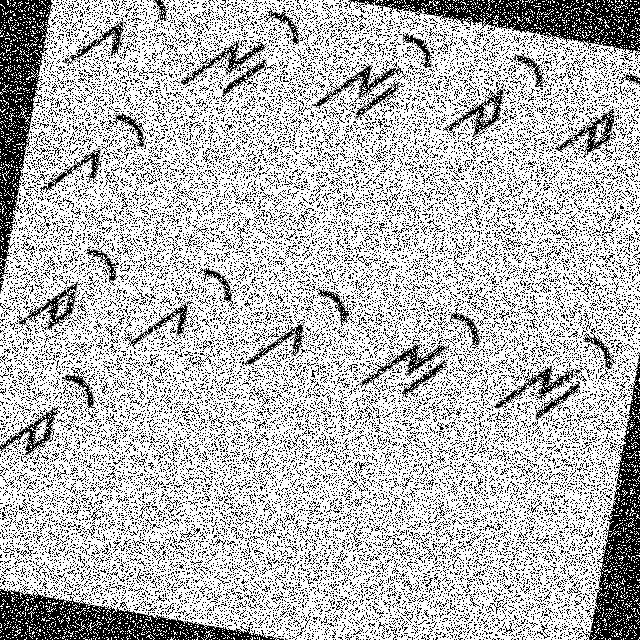gay: (123, 243, 240, 374), (235, 268, 358, 389), (34, 94, 156, 214), (57, 0, 180, 87)
ngay: (486, 311, 623, 439), (360, 288, 490, 414), (306, 15, 439, 134), (173, 0, 305, 117)
tay: (6, 222, 127, 352), (439, 38, 552, 152), (0, 351, 103, 476), (546, 53, 639, 174)
